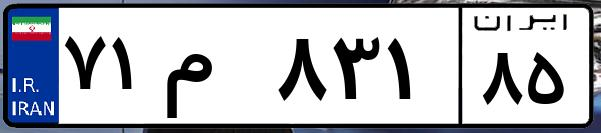1: (385, 28, 445, 110), (110, 28, 158, 98)
3: (330, 28, 385, 110)
5: (525, 38, 570, 115)
7: (57, 26, 110, 100)
8: (270, 28, 330, 110), (475, 38, 525, 113)
م: (158, 20, 270, 120)
